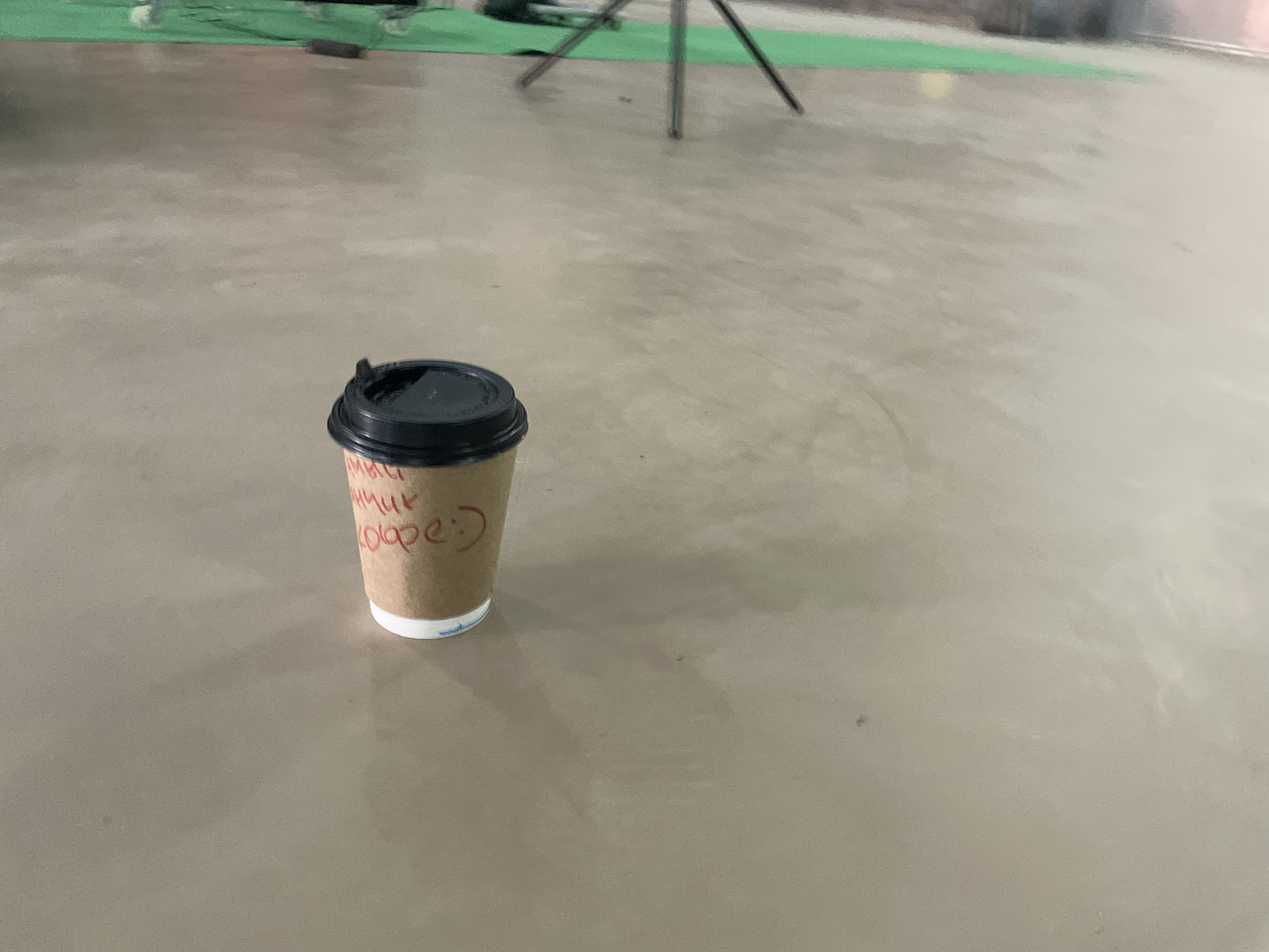cup: (324, 357, 530, 641)
